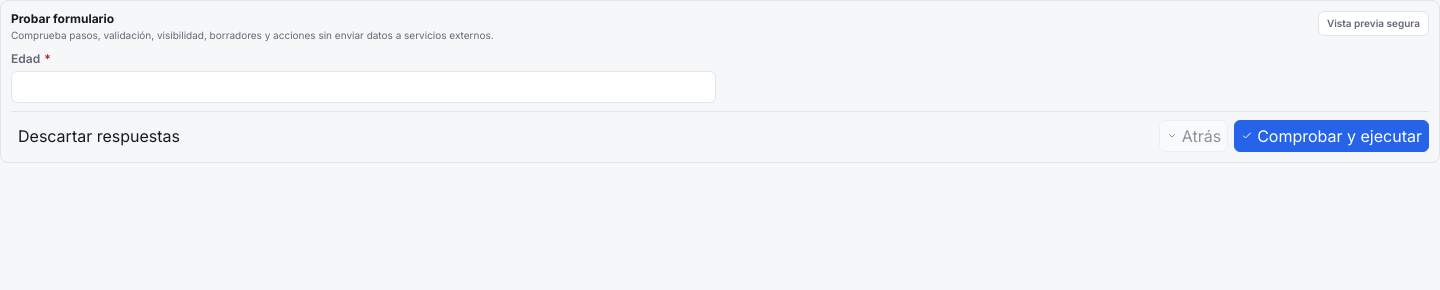
M11.2 FormValidationPreview › activa campos condicionales en vivo y usa el mensaje canónico de éxito
The image size is (1440, 290).
Type "21" into the number field labelled "Edad" at (364, 87), box [11,71,716,103]
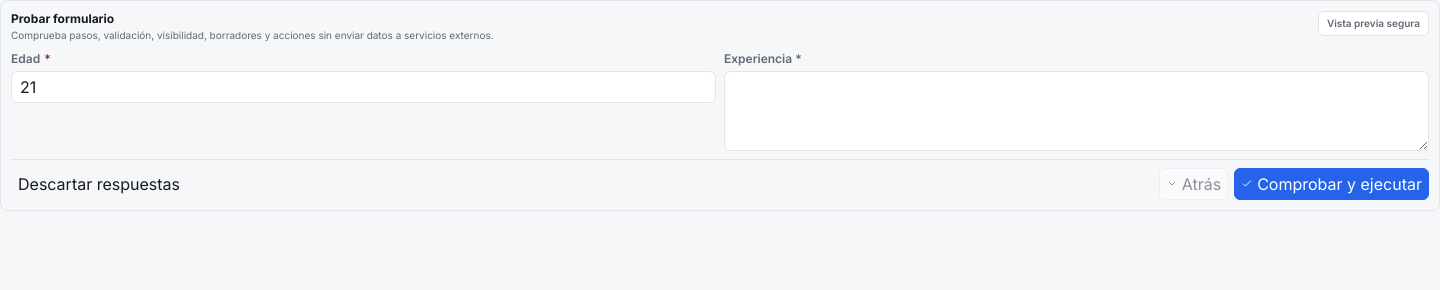
Check: the text box labelled "Experiencia *" is shown, box [724,71,1429,151]
Click the button "Comprobar y ejecutar" at (1332, 184), box [1234,168,1429,200]
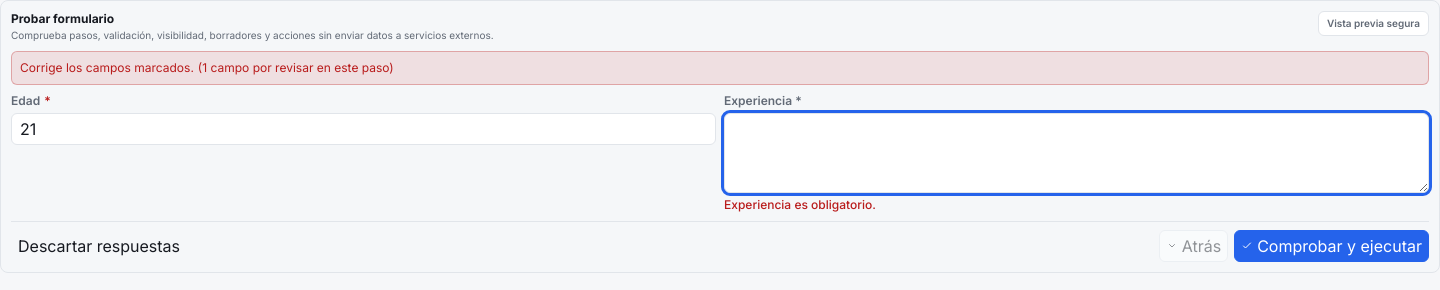
Check: the message "Experiencia es obligatorio." is shown, box [724,197,876,212]
Type "Cinco años" into the text box labelled "Experiencia * Experiencia es obligatorio." at (1076, 153), box [724,113,1429,193]
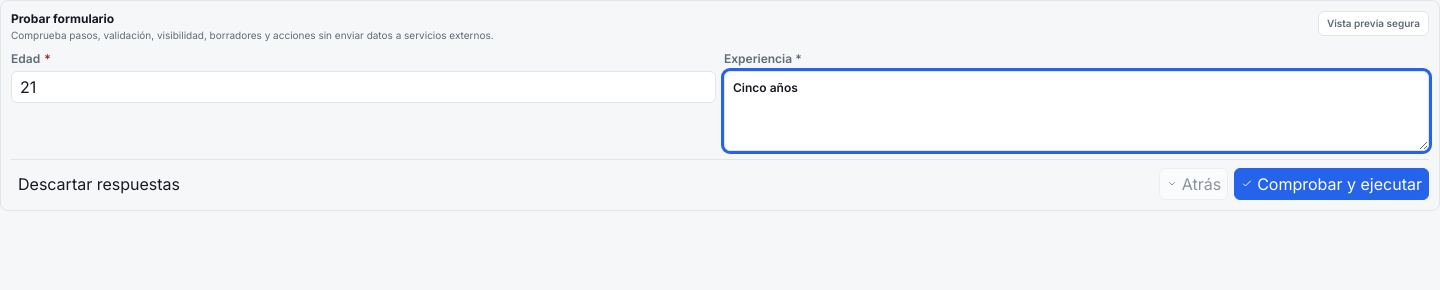
Click the button "Comprobar y ejecutar" at (1332, 184), box [1234,168,1429,200]
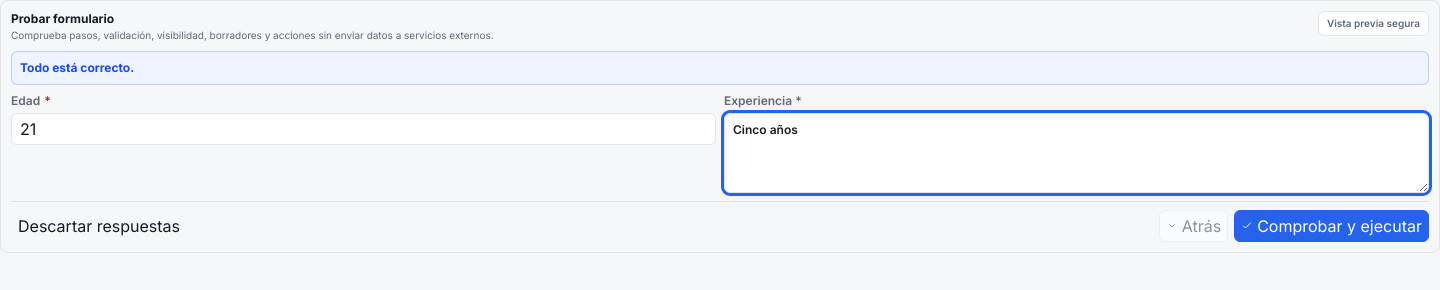
Check: the message reads "Todo está correcto.", box [20,60,134,75]
